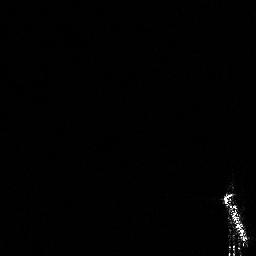ship: (218, 182, 254, 256)
